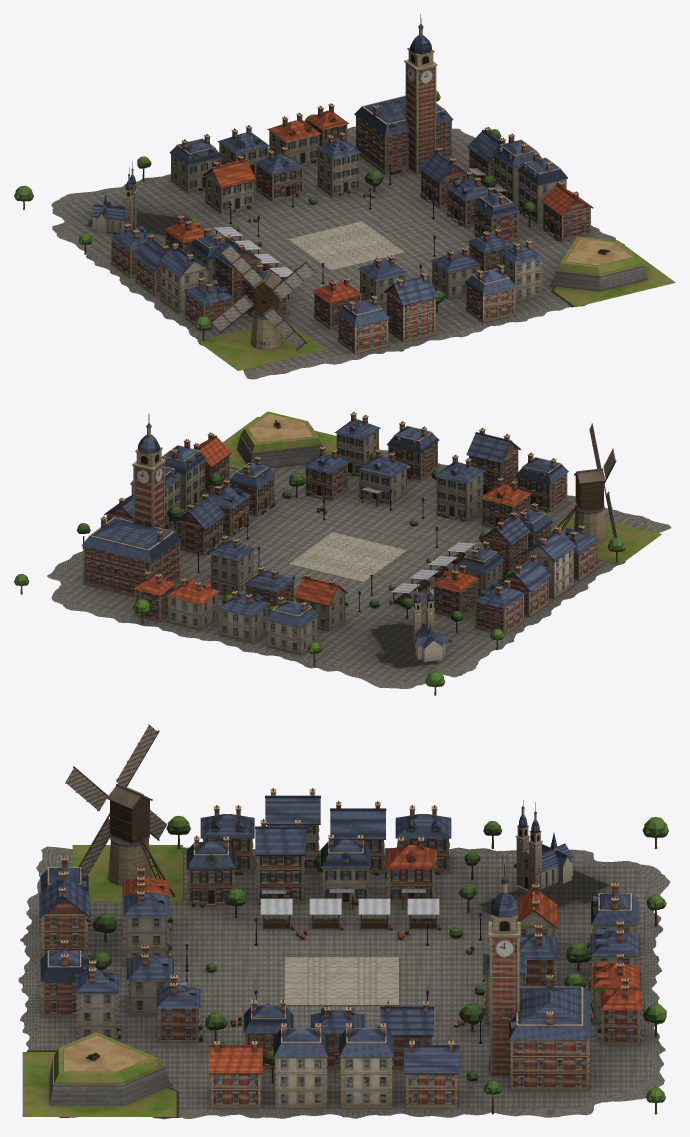
Rendered from gunpowder-town-big-b-1397a1a7.glb.
3 views of the same model, one above another, from view 1: azimuth 30°, elevation 25°; view 2: azimuth 150°, elevation 25°; view 3: azimuth 270°, elevation 25° (orthographic). The views are drawn at different scales.
Visible parts, largest first — view 1: LOD0; view 2: LOD0; view 3: LOD0.
Part boxes in pixels (bbox=[...]): LOD0: bbox=[14, 14, 675, 379]; LOD0: bbox=[14, 411, 671, 695]; LOD0: bbox=[18, 724, 670, 1119].
Size of what is drawn, in the model's own units: 8.05 by 2.8 by 8.12.
3 materials, 3 textured.
